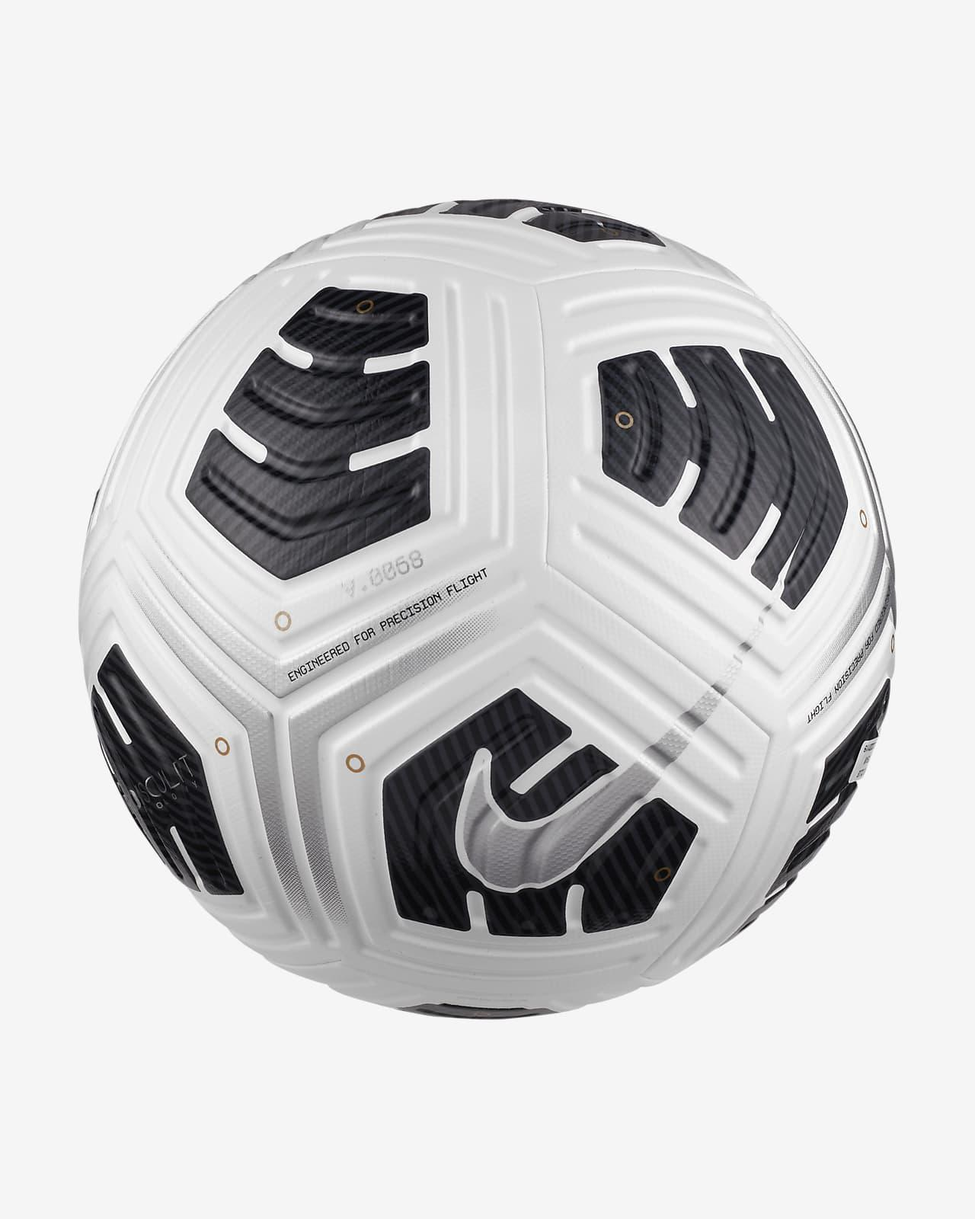sphere: (78, 200, 897, 1019)
